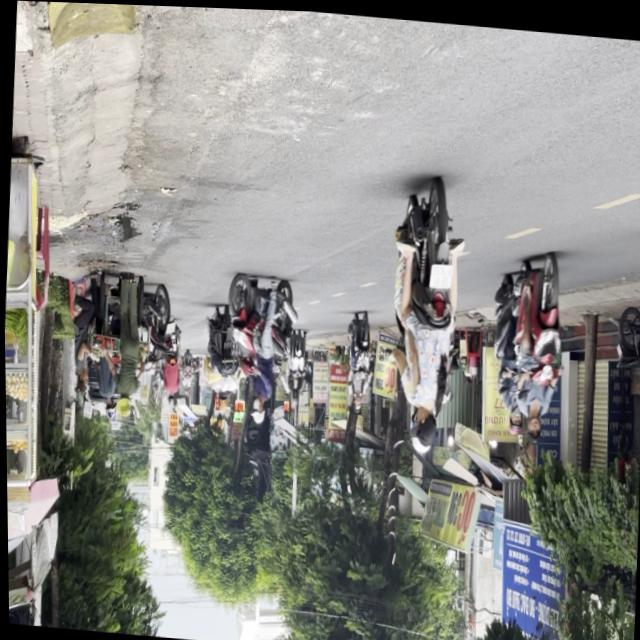helmet: (507, 405, 522, 436)
licenseplate: (380, 173, 471, 460), (483, 243, 570, 447), (220, 267, 299, 426)
motorcyclist: (411, 398, 438, 446), (523, 404, 541, 441), (249, 393, 264, 423)
nohelmet: (428, 262, 452, 286)
